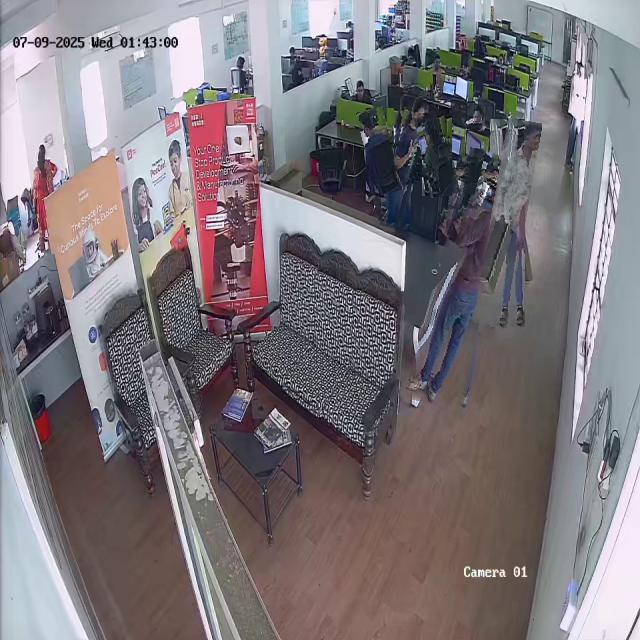person: (420, 148, 512, 410), (481, 119, 534, 327), (385, 92, 424, 230), (29, 143, 63, 254), (361, 107, 399, 195), (418, 113, 456, 197), (466, 105, 486, 132)
